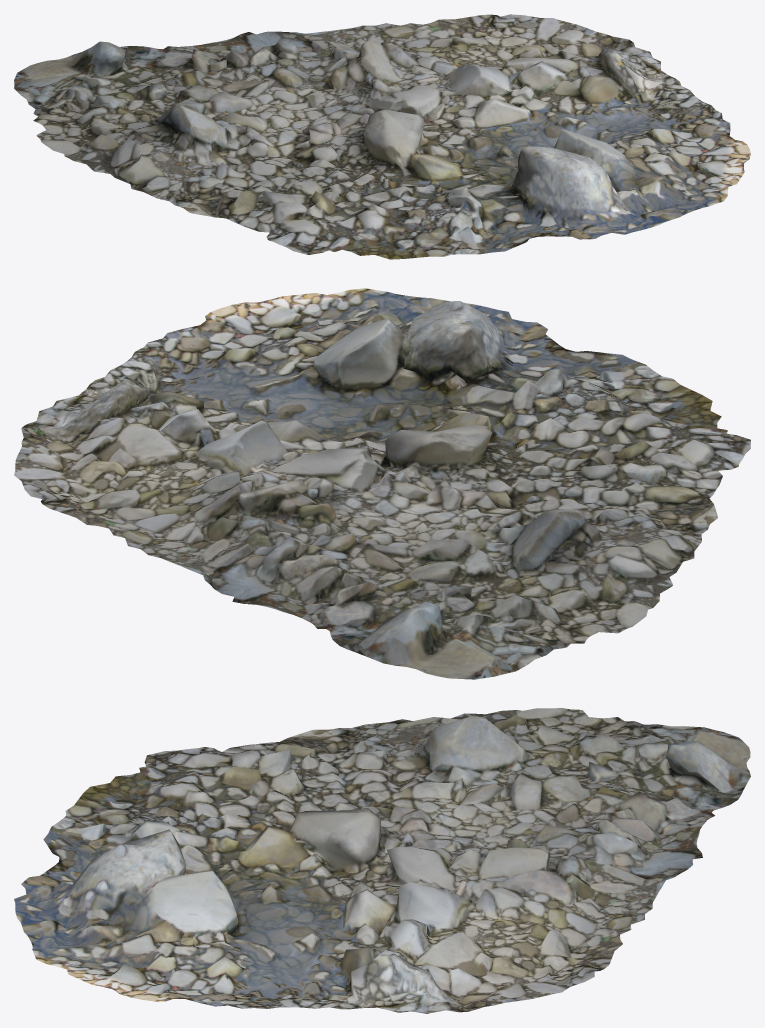
Rendered from SM_Cobble_02_02.fbx.
3 views of the same model, one above another, from view 1: azimuth 30°, elevation 25°; view 2: azimuth 150°, elevation 25°; view 3: azimuth 270°, elevation 25° (orthographic). The views are drawn at different scales.
Parts seen in each view (by area): view 1: sm_Cobble_02_02_LOD0; view 2: sm_Cobble_02_02_LOD0; view 3: sm_Cobble_02_02_LOD0.
Part boxes in pixels (x1=…): sm_Cobble_02_02_LOD0: x1=14, y1=14, x2=750, y2=259; sm_Cobble_02_02_LOD0: x1=14, y1=288, x2=750, y2=679; sm_Cobble_02_02_LOD0: x1=14, y1=708, x2=750, y2=1013.
Bounding box in the file's own units: 226 × 222 × 21.13.
